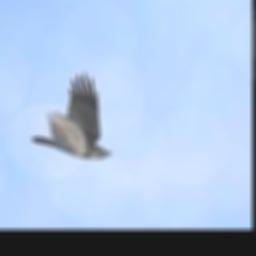Crow: (32, 73, 113, 159)
